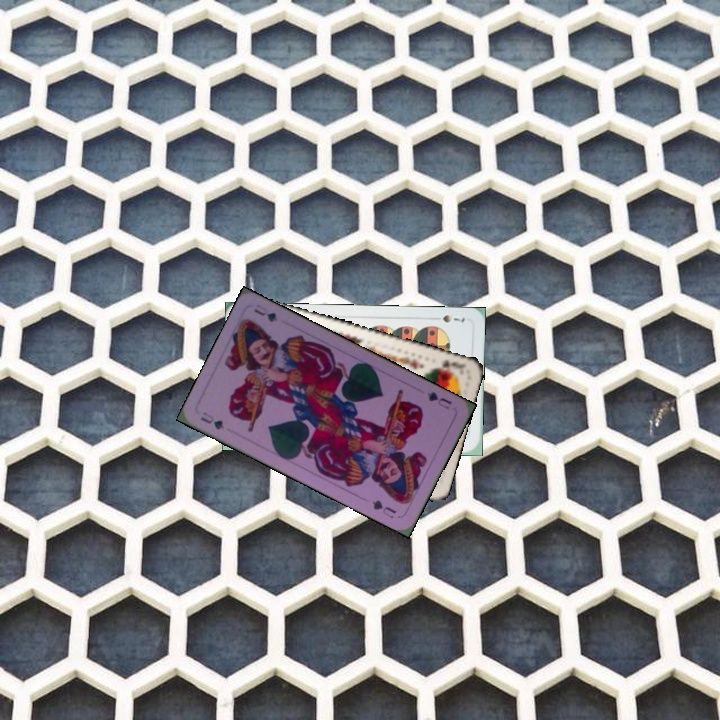GU: (423, 388, 454, 412), (197, 408, 227, 432)
S7: (439, 310, 468, 325)
SK: (429, 356, 467, 375)
